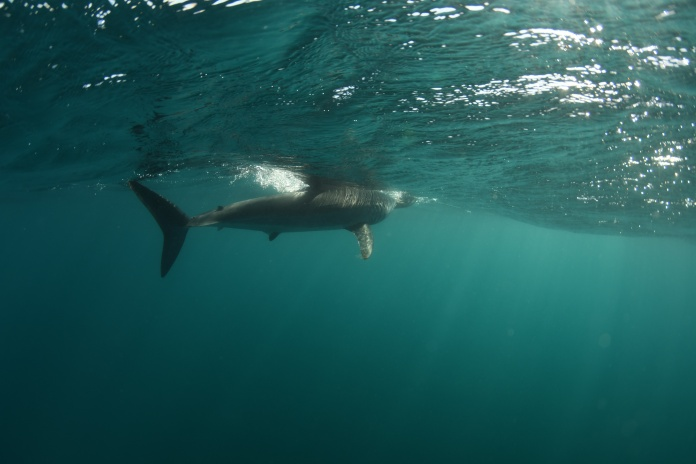Mako: (109, 167, 409, 289)
